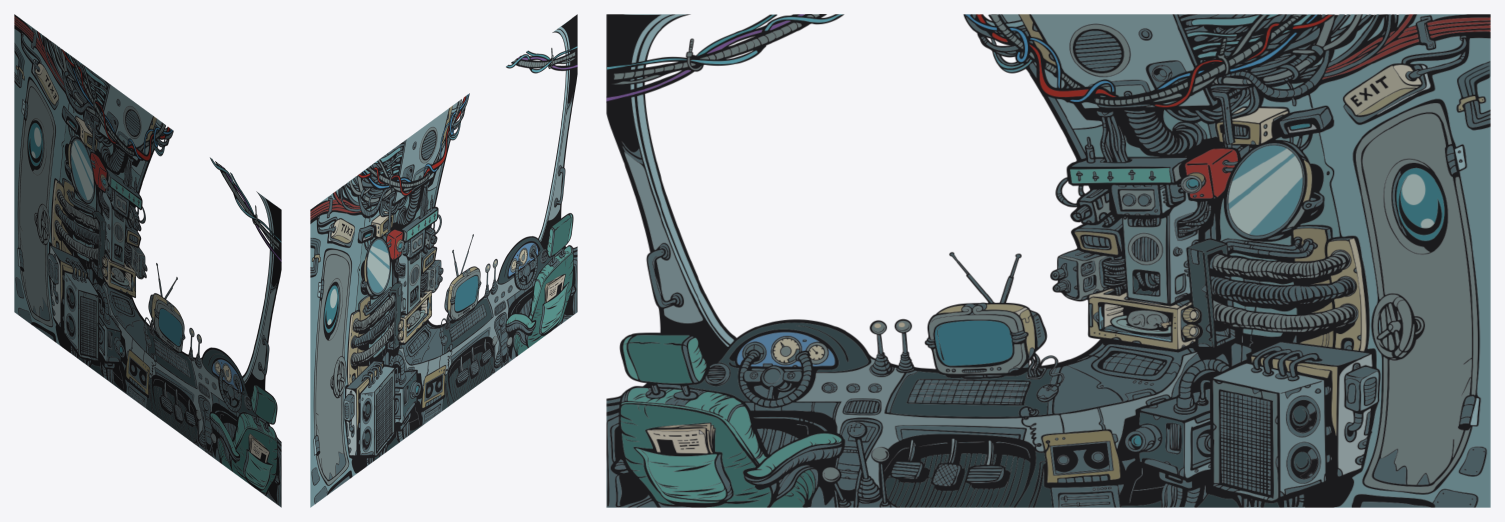
Rendered from HgsCockpit.glb.
The picture shows the model from 3 angles, left to right: view 1: azimuth 30°, elevation 25°; view 2: azimuth 150°, elevation 25°; view 3: azimuth 270°, elevation 25°; orthographic projection. The views are drawn at different scales.
Visible parts, largest first — view 1: shipInside, shipInside.001; view 2: shipInside, shipInside.001; view 3: shipInside, shipInside.001.
Part boxes in pixels (x1,y1,x2,y2): shipInside: (14, 14, 281, 507); shipInside.001: (159, 308, 182, 346); shipInside: (310, 14, 577, 507); shipInside.001: (455, 275, 478, 311); shipInside: (606, 14, 1490, 507); shipInside.001: (935, 320, 1012, 365).
Size of the model in its own units: 0 by 1 by 1.62.
Materials: 1 (1 with a texture image).
